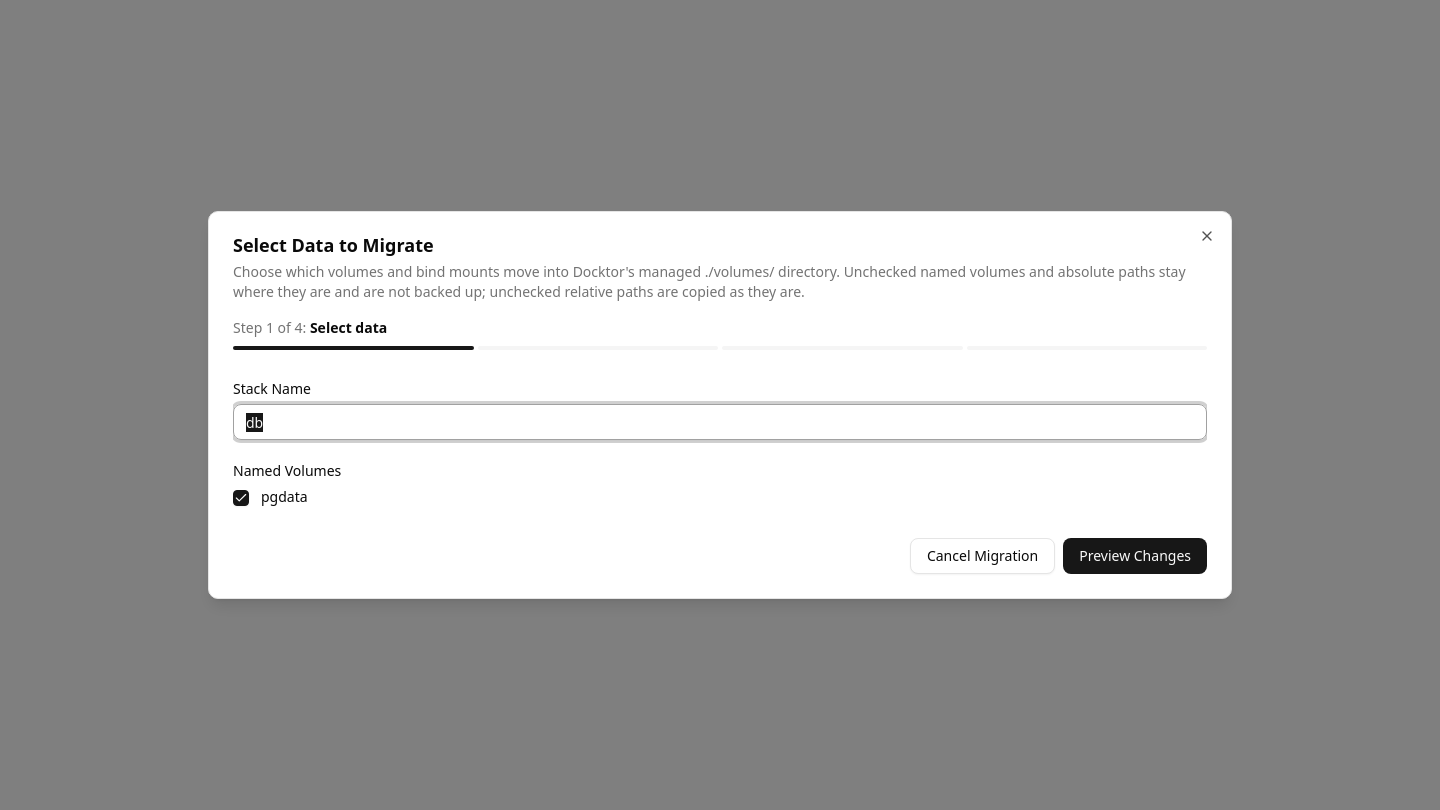
it: MigrationWizard › renders the preview as a real line diff with +N / -N counters
This screenshot has width=1440, height=810.
Step 1. Click the button "Preview Changes" → (1135, 556), box [1063,538,1207,574]
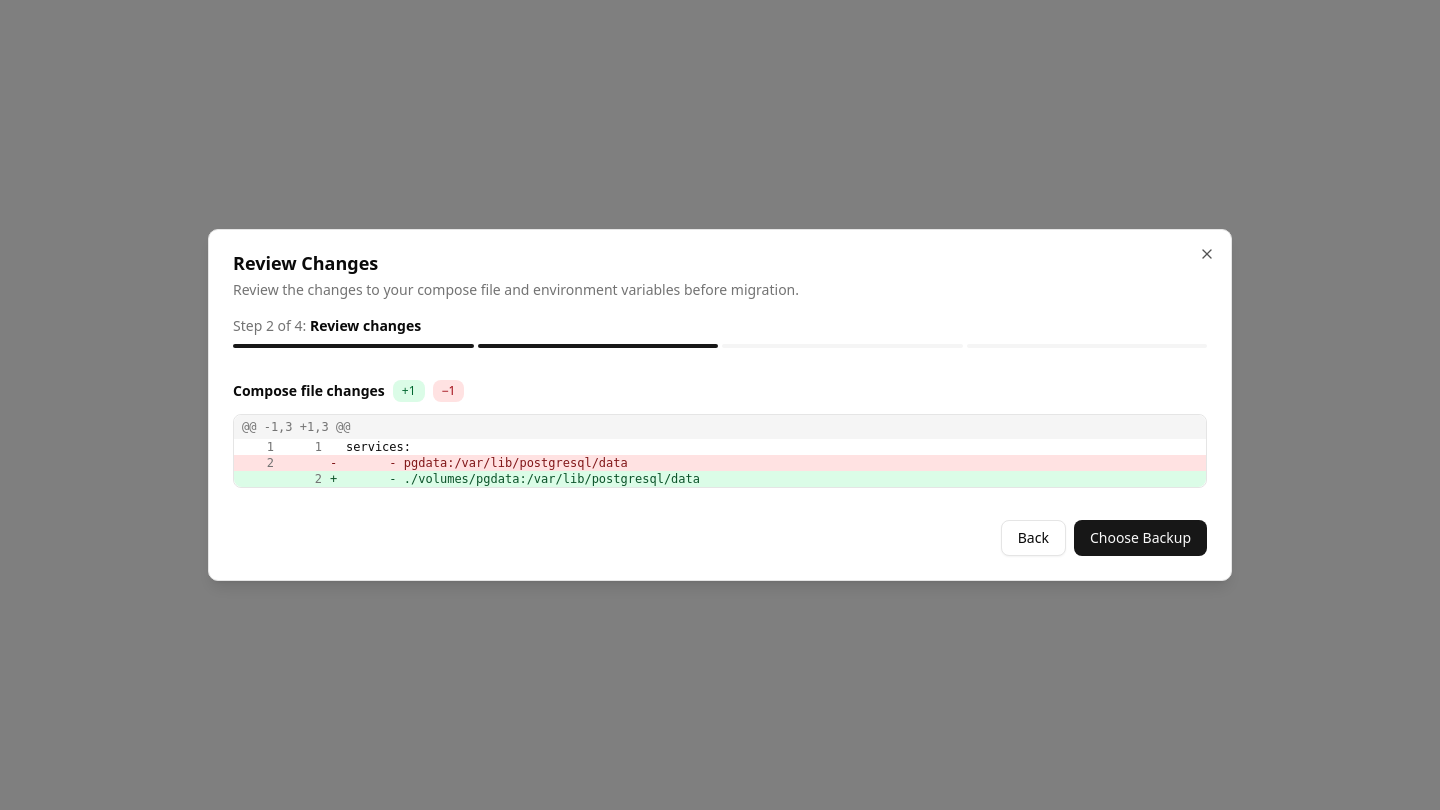
Check: the heading "Review Changes" is shown, box [233,251,378,275]
Check: the heading "Compose file changes" is shown, box [233,381,385,401]
Check: the text "+1" is shown, box [393,380,425,402]
